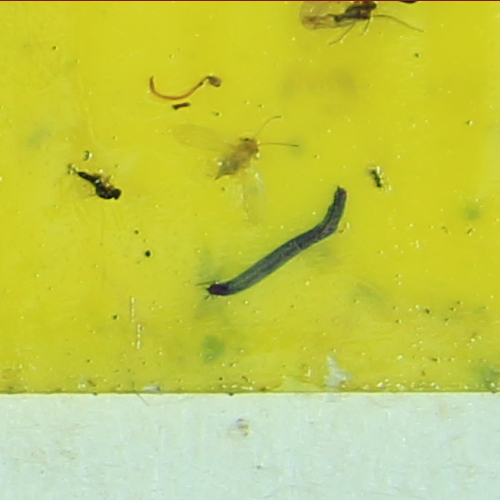Glycaspis: (210, 137, 263, 181)
